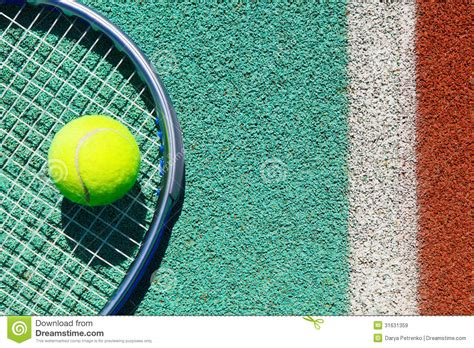tennis_ball: (47, 113, 143, 206)
